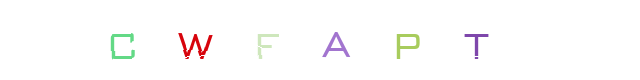A: (281, 0, 361, 80)
C: (81, 0, 161, 80)
F: (225, 0, 305, 80)
P: (339, 0, 419, 80)
T: (352, 0, 432, 80)
W: (155, 0, 235, 80)
